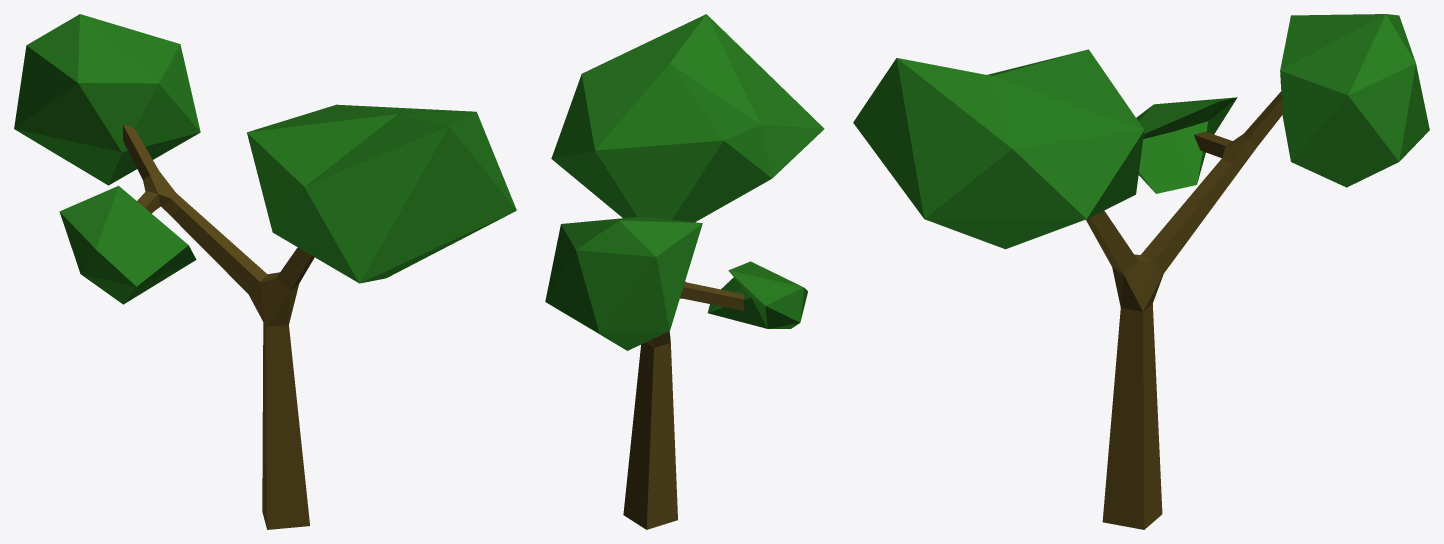
The model's file is Tree,ThiefOfLondon.fbx.
3 views of the same model, side by side, from view 1: azimuth 30°, elevation 25°; view 2: azimuth 150°, elevation 25°; view 3: azimuth 270°, elevation 25° (orthographic). The views are drawn at different scales.
Visible parts, largest first — view 1: Icosphere.002, Icosphere, Cube, Icosphere.001; view 2: Icosphere.002, Icosphere, Cube, Icosphere.001; view 3: Icosphere.002, Icosphere, Cube, Icosphere.001.
Part boxes in pixels (bbox=[...]): Icosphere.002: bbox=[247, 104, 516, 283]; Icosphere: bbox=[14, 14, 200, 185]; Cube: bbox=[123, 125, 314, 529]; Icosphere.001: bbox=[59, 185, 196, 304]; Icosphere.002: bbox=[551, 14, 824, 222]; Icosphere: bbox=[545, 217, 702, 350]; Cube: bbox=[623, 281, 744, 529]; Icosphere.001: bbox=[707, 261, 807, 328]; Icosphere.002: bbox=[853, 49, 1144, 249]; Icosphere: bbox=[1280, 14, 1429, 187]; Cube: bbox=[1086, 91, 1282, 529]; Icosphere.001: bbox=[1136, 97, 1237, 193].
Size of the model in its own units: 376 by 522 by 560.
